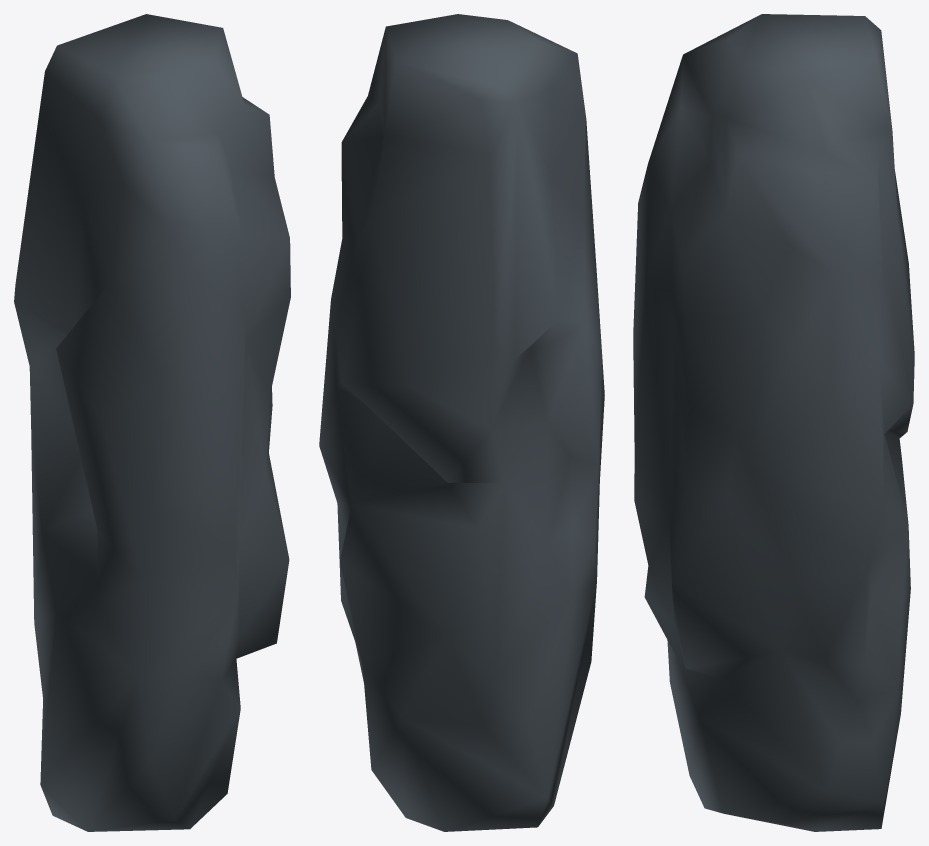
File: rock_04.fbx
3 renders of one model, left to right at view 1: azimuth 30°, elevation 25°; view 2: azimuth 150°, elevation 25°; view 3: azimuth 270°, elevation 25°, orthographic. The views are drawn at different scales.
Parts seen in each view (by area): view 1: rock_04; view 2: rock_04; view 3: rock_04.
Boxes of the visible parts, x1,y1,x2,y2 form: rock_04: (14, 14, 290, 831); rock_04: (319, 14, 604, 831); rock_04: (633, 14, 914, 831).
Bounding box in the file's own units: 64.56 × 210 × 68.47.
